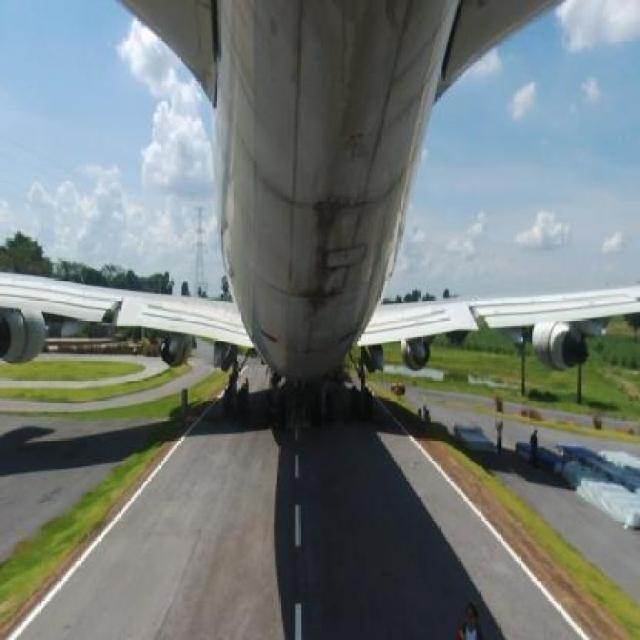Scartch: (296, 10, 386, 185), (282, 182, 363, 338)
